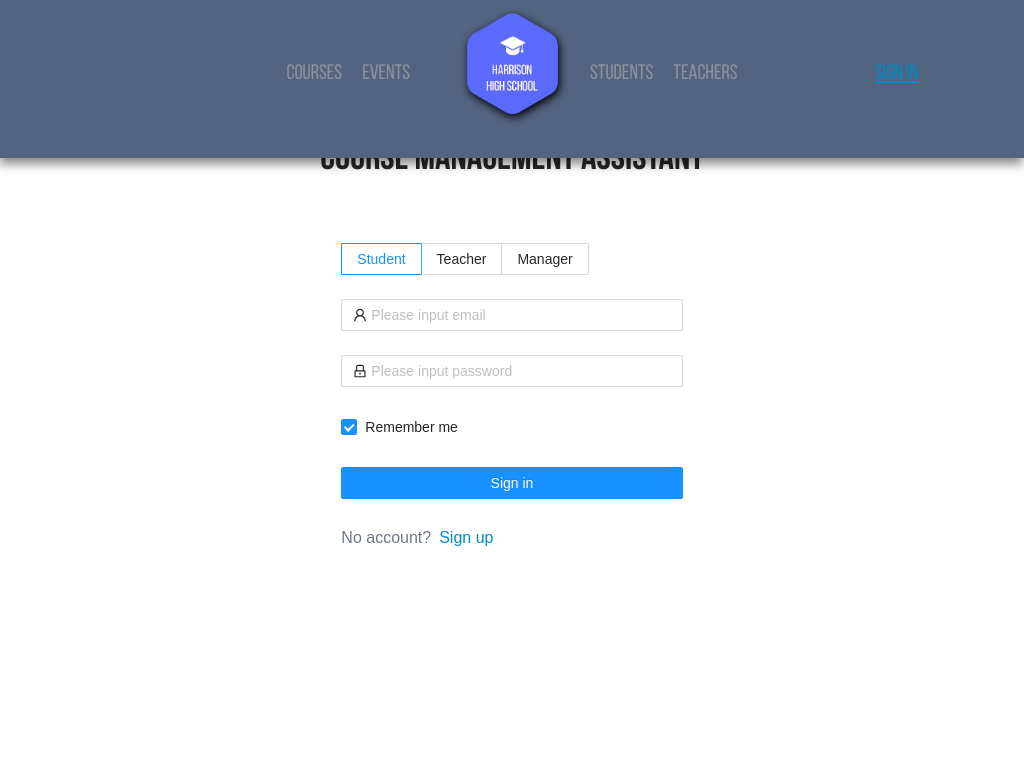
Login Page works as intended › ID08: 'Sign up' link works
Click the link "Sign up".
click(466, 538)  # box left=439, top=529, right=493, bottom=546
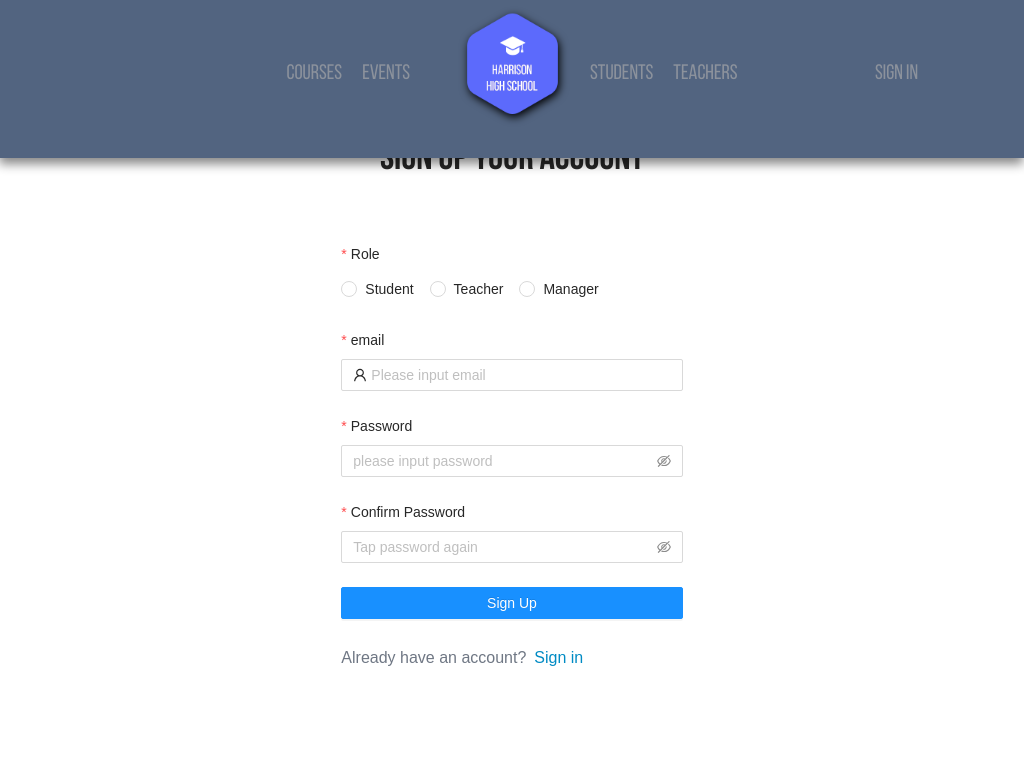
Expected: the heading "Sign up your account" is shown, left=380, top=140, right=644, bottom=179
